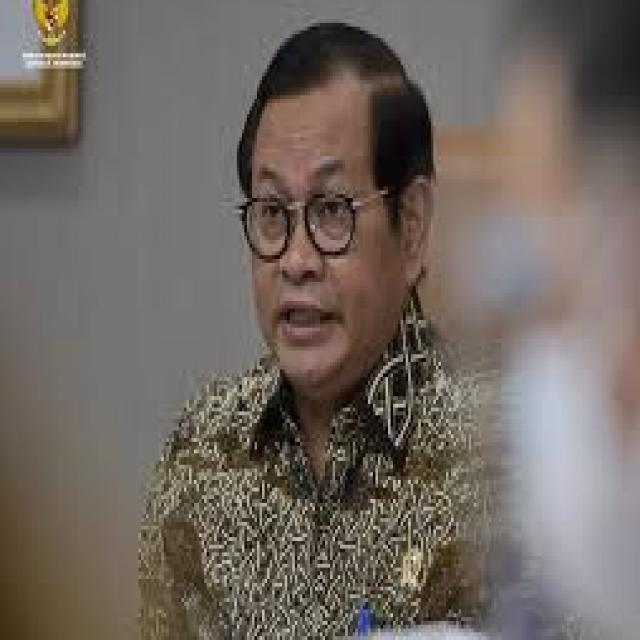Glasses: (237, 187, 388, 263)
